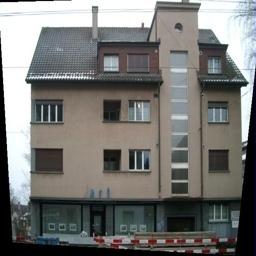building: (32, 2, 245, 256)
